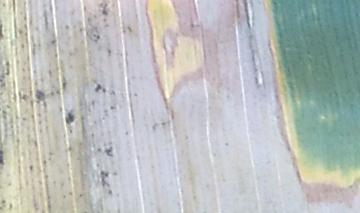tarspot: (33, 87, 47, 106), (64, 112, 78, 128), (92, 82, 104, 95), (1, 147, 7, 169)
